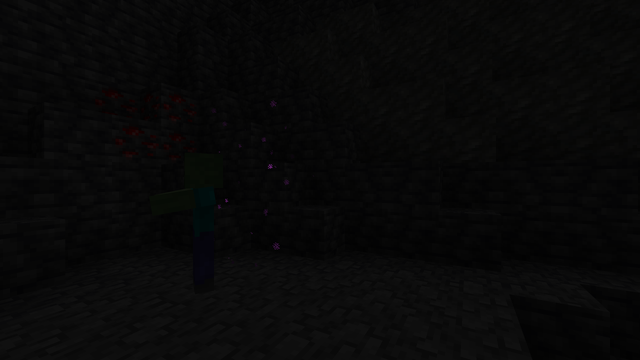zombies: (171, 155, 231, 298)
